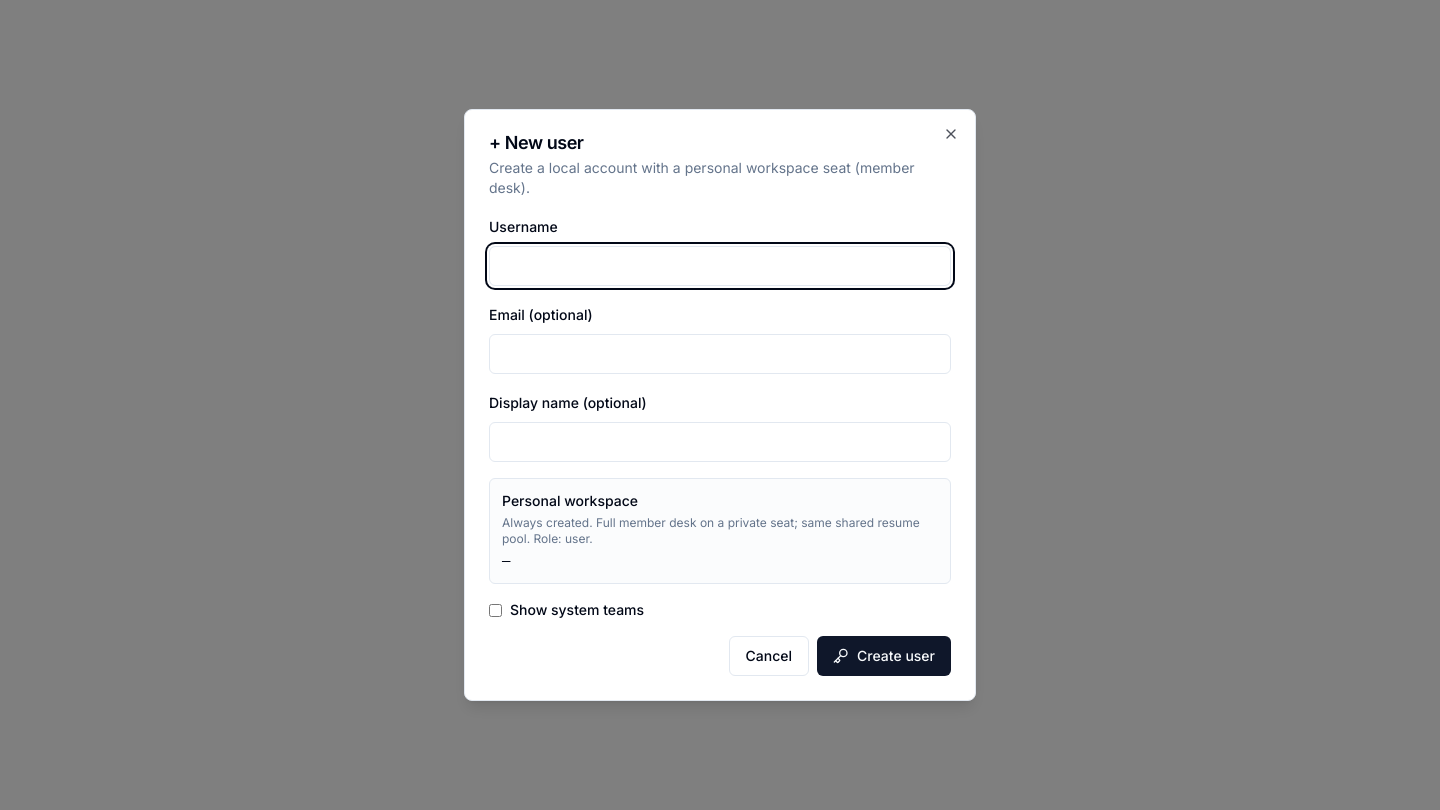
Test case: CreateUserDialog › shows validation error when username is empty
Click the button with test id "create-user-submit" at (884, 656), box [817,636,951,676]
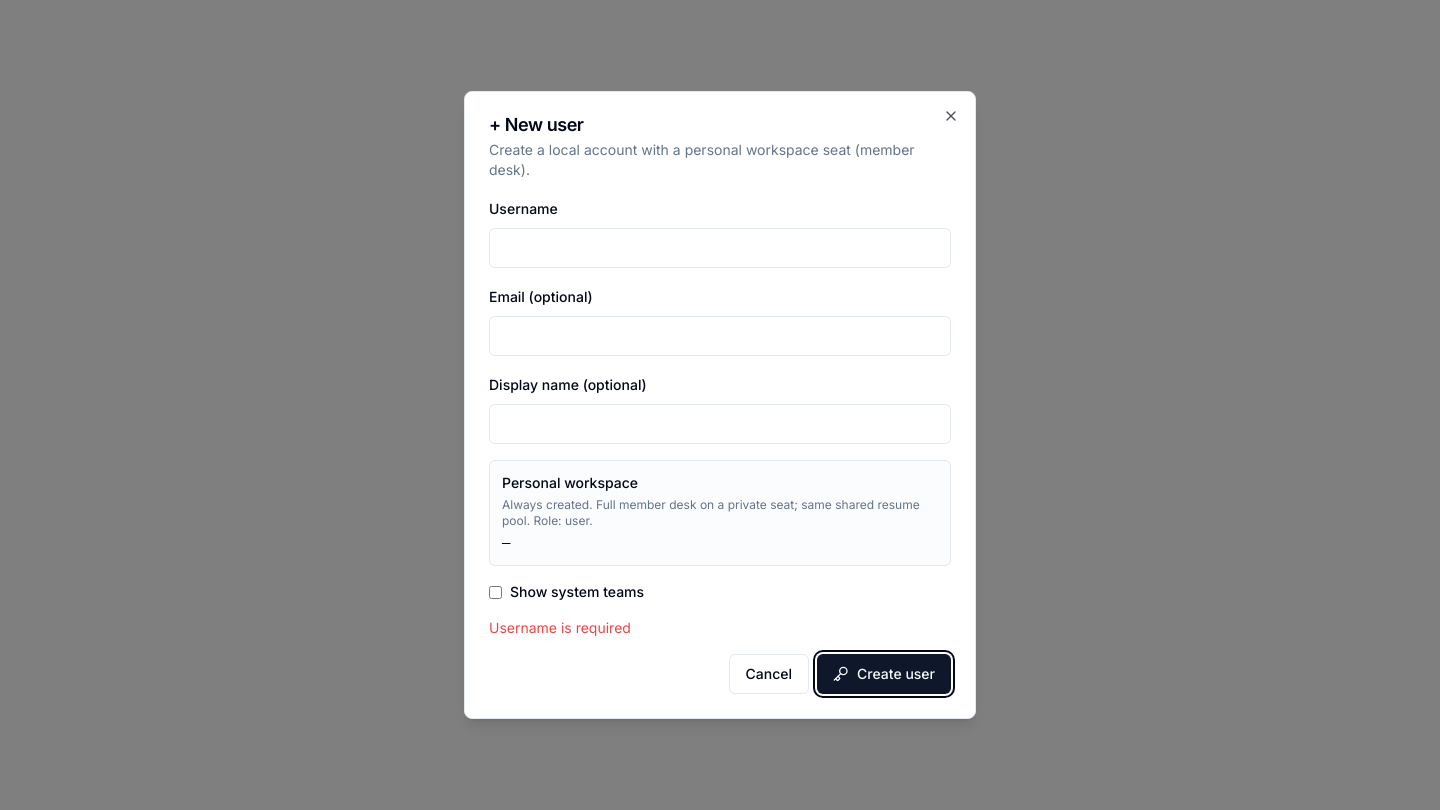
Result: the text "Username is required" is shown at [489,619,631,636]
